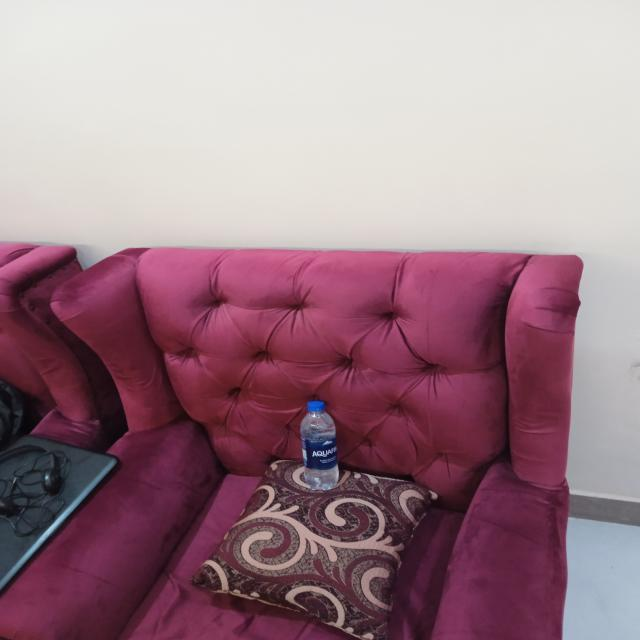Plastic: (296, 394, 344, 494)
